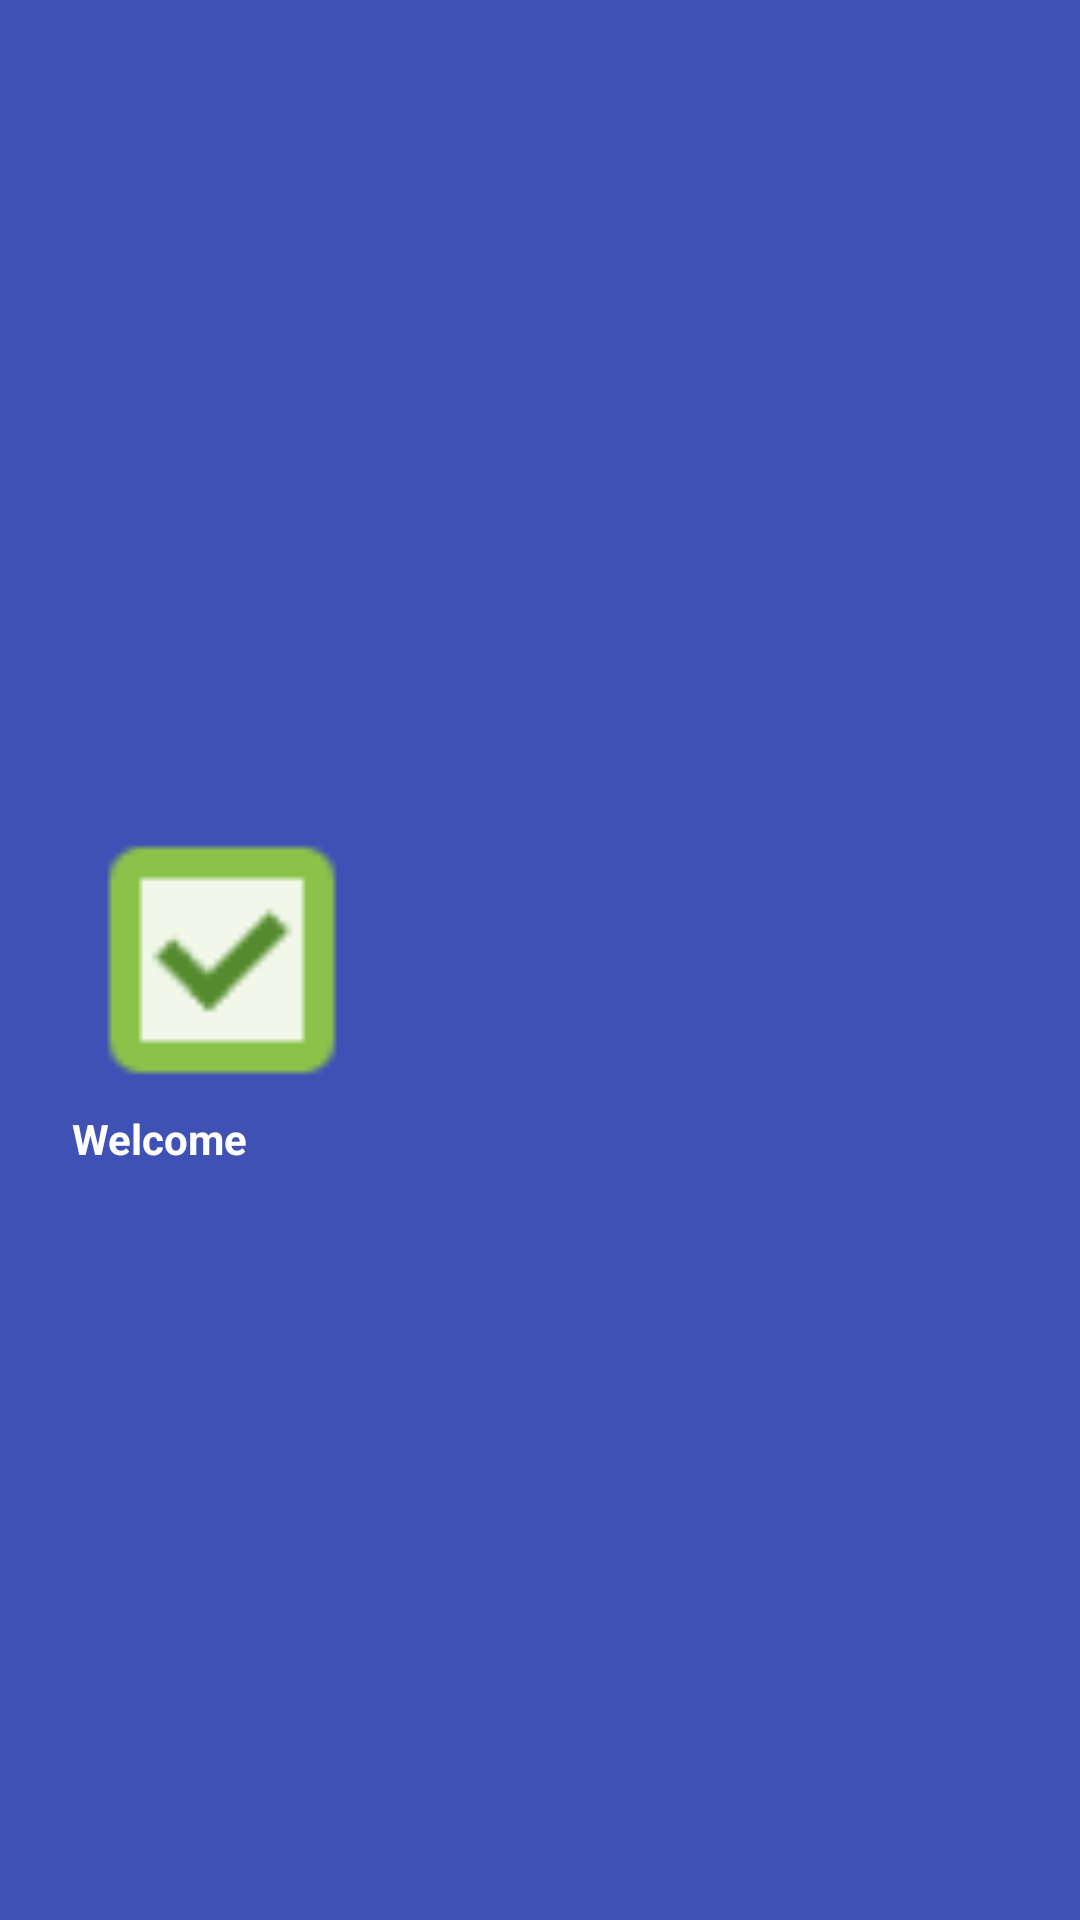

Screen size 1080×1920. Icon name, then its center in pixels as [x,y]:
checked checkbox: [222,960]
